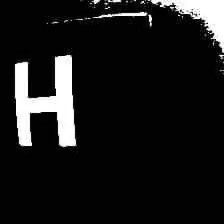LTR_H: (4, 48, 84, 152)
